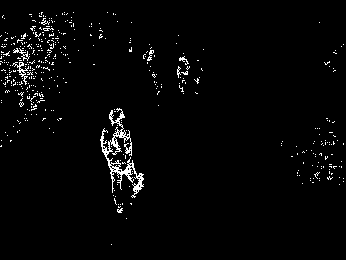person: (101, 107, 144, 213)
